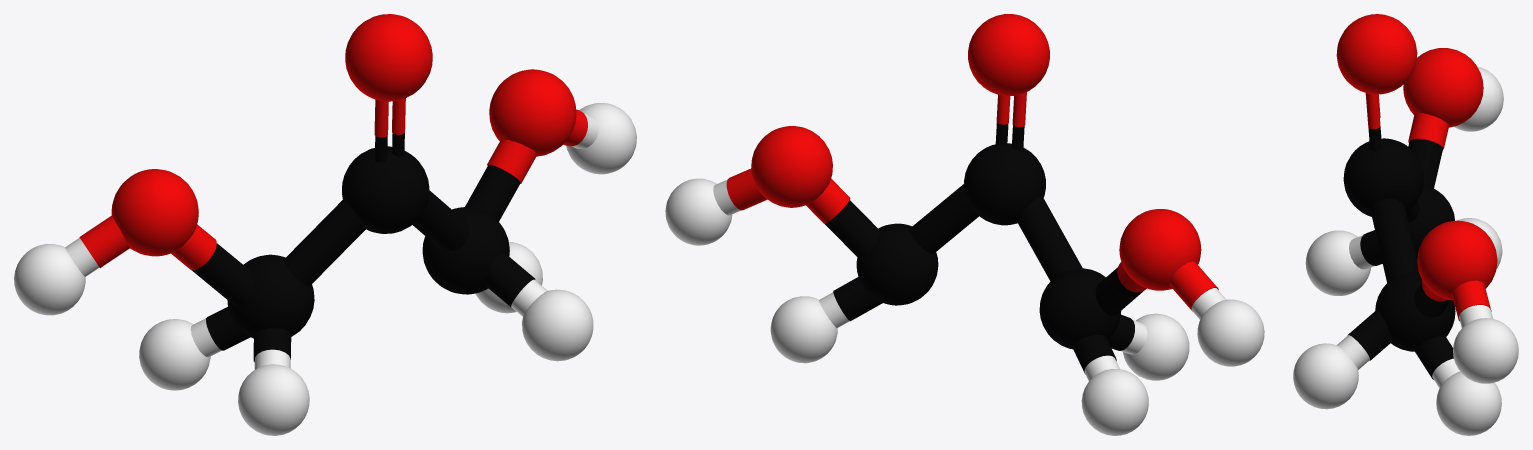
3 renders of one model, left to right at view 1: azimuth 30°, elevation 25°; view 2: azimuth 150°, elevation 25°; view 3: azimuth 270°, elevation 25°, orthographic. The views are drawn at different scales.
Parts seen in each view (by area): view 1: Sphere030, Sphere027, Sphere026, Sphere023, Sphere025, Sphere024, Sphere032, Sphere034, Sphere029, Sphere031, Cylinder035, Sphere028 (+13 smaller); view 2: Sphere030, Sphere026, Sphere023, Sphere027, Sphere024, Sphere025, Sphere029, Sphere031, Sphere033, Sphere028, Sphere032, Cylinder035 (+9 smaller); view 3: Sphere030, Sphere027, Sphere026, Sphere023, Sphere024, Sphere028, Sphere034, Sphere033, Sphere032, Cylinder034, Sphere025, Sphere029 (+14 smaller).
Boxes of the visible parts, x1=… form: Sphere030: x1=345, y1=14, x2=432, y2=101; Sphere027: x1=111, y1=169, x2=198, y2=256; Sphere026: x1=489, y1=69, x2=576, y2=156; Sphere023: x1=342, y1=146, x2=429, y2=233; Sphere025: x1=227, y1=254, x2=314, y2=338; Sphere024: x1=422, y1=207, x2=509, y2=294; Sphere032: x1=238, y1=364, x2=309, y2=435; Sphere034: x1=522, y1=289, x2=593, y2=361; Sphere029: x1=14, y1=244, x2=85, y2=315; Sphere031: x1=139, y1=319, x2=210, y2=390; Cylinder035: x1=284, y1=199, x2=365, y2=285; Sphere028: x1=566, y1=103, x2=636, y2=174; Sphere030: x1=968, y1=14, x2=1049, y2=95; Sphere026: x1=751, y1=126, x2=832, y2=207; Sphere023: x1=964, y1=143, x2=1045, y2=225; Sphere027: x1=1119, y1=209, x2=1201, y2=290; Sphere024: x1=856, y1=223, x2=938, y2=305; Sphere025: x1=1039, y1=268, x2=1121, y2=349; Sphere029: x1=1197, y1=299, x2=1264, y2=366; Sphere031: x1=1081, y1=369, x2=1148, y2=435; Sphere033: x1=770, y1=296, x2=837, y2=363; Sphere028: x1=665, y1=178, x2=732, y2=245; Sphere032: x1=1123, y1=313, x2=1189, y2=380; Cylinder035: x1=1017, y1=196, x2=1082, y2=281; Sphere030: x1=1336, y1=14, x2=1417, y2=94; Sphere027: x1=1403, y1=48, x2=1483, y2=127; Sphere026: x1=1417, y1=220, x2=1497, y2=300; Sphere023: x1=1343, y1=138, x2=1424, y2=216; Sphere024: x1=1375, y1=271, x2=1455, y2=351; Sphere028: x1=1453, y1=318, x2=1518, y2=383; Sphere034: x1=1293, y1=343, x2=1358, y2=409; Sphere033: x1=1436, y1=371, x2=1501, y2=435; Sphere032: x1=1305, y1=230, x2=1370, y2=295; Cylinder034: x1=1370, y1=198, x2=1418, y2=282; Sphere025: x1=1409, y1=185, x2=1454, y2=259; Sphere029: x1=1454, y1=66, x2=1503, y2=131.
Size of the model in its own units: 178 by 101 by 60.96.
